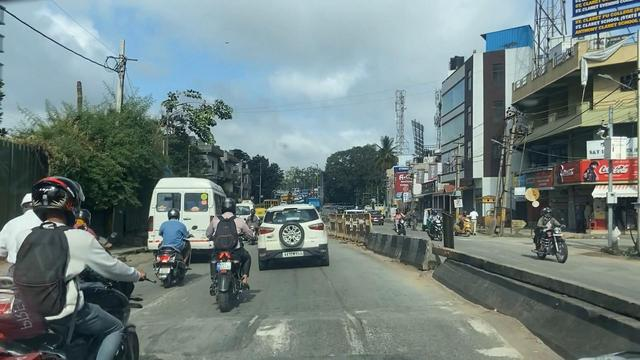HMV: (155, 180, 217, 252)
LMV: (207, 198, 253, 307), (259, 205, 331, 268), (159, 212, 188, 279)
SpeedBump: (138, 308, 510, 356)
